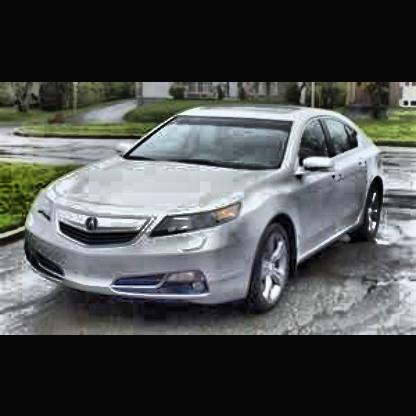Acura TL Sedan 2012: (22, 102, 386, 319)
